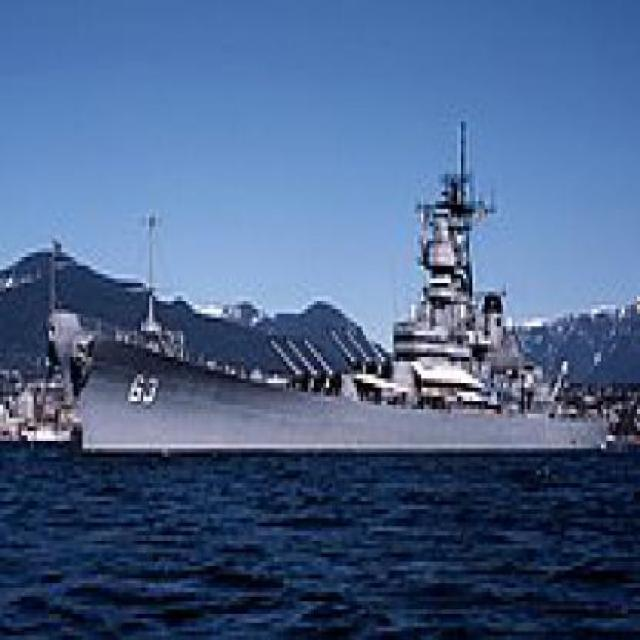warship2: (41, 101, 619, 498)
